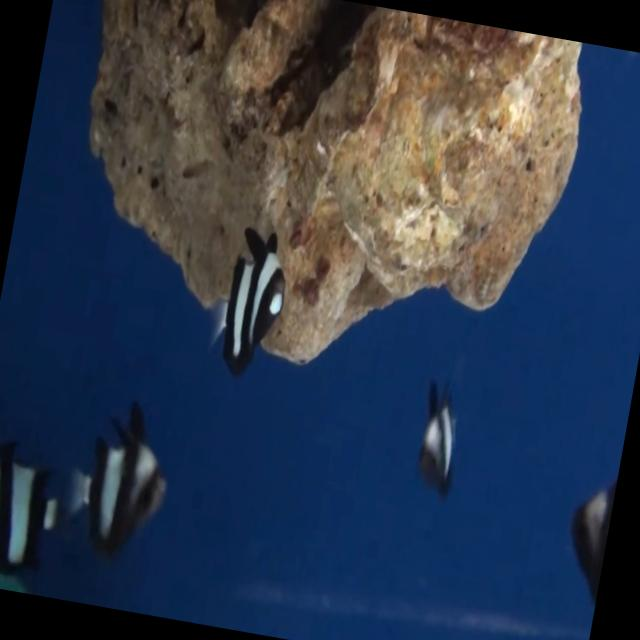ThreeStripedDamselfish: (67, 404, 165, 553), (210, 225, 284, 376)
